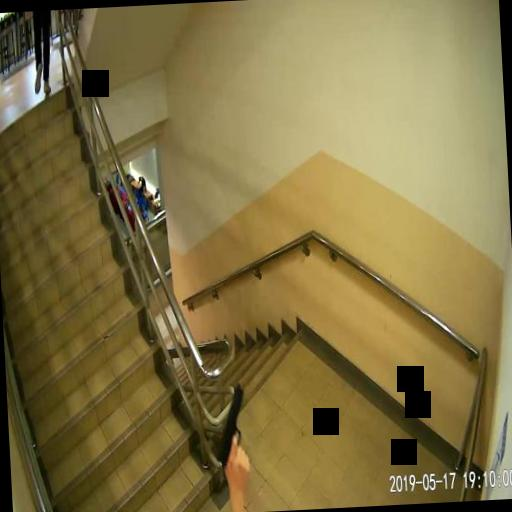Handgun: (212, 382, 250, 480)
